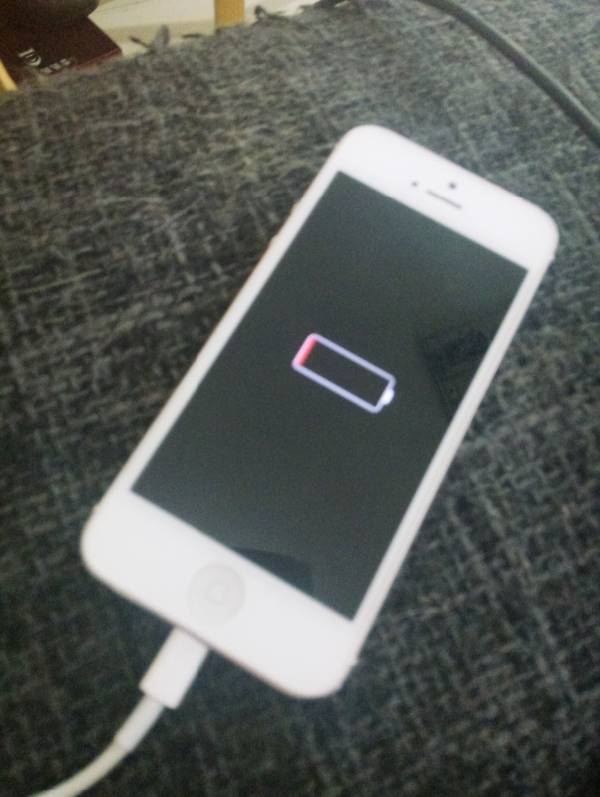phone: (72, 150, 558, 654)
